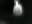person: (13, 1, 25, 18)
